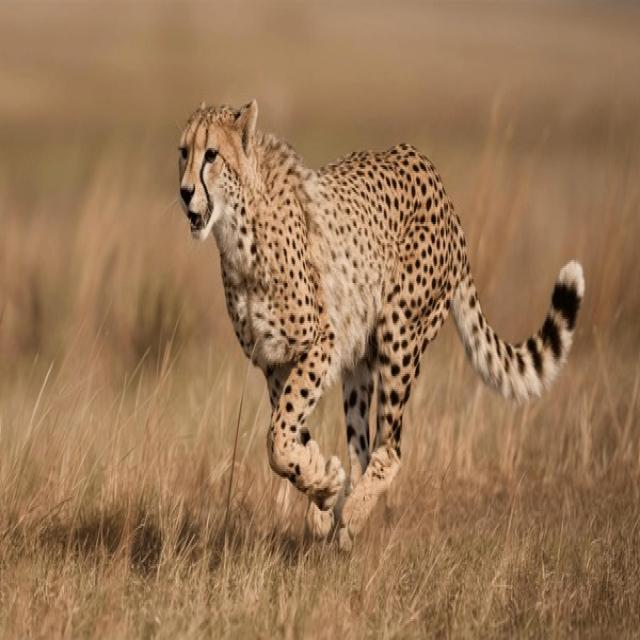Cheetah: (176, 92, 584, 550)
